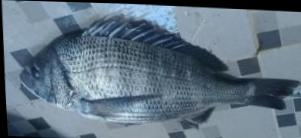fish: (18, 16, 298, 124)
